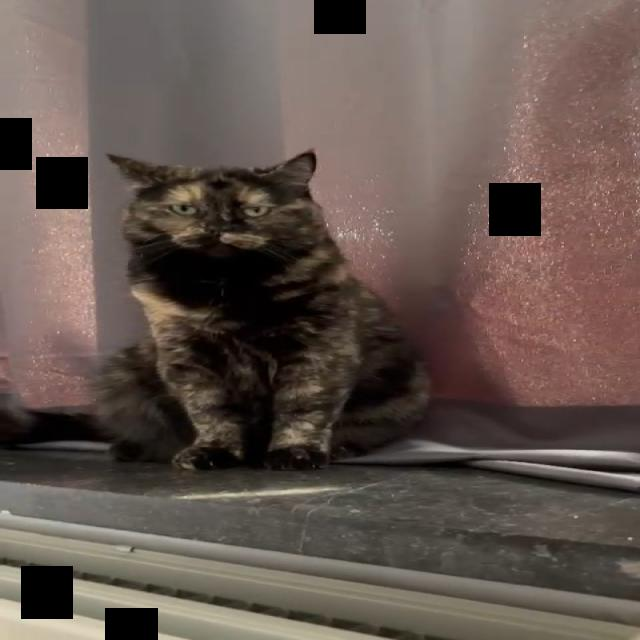authorized: (90, 148, 433, 471)
